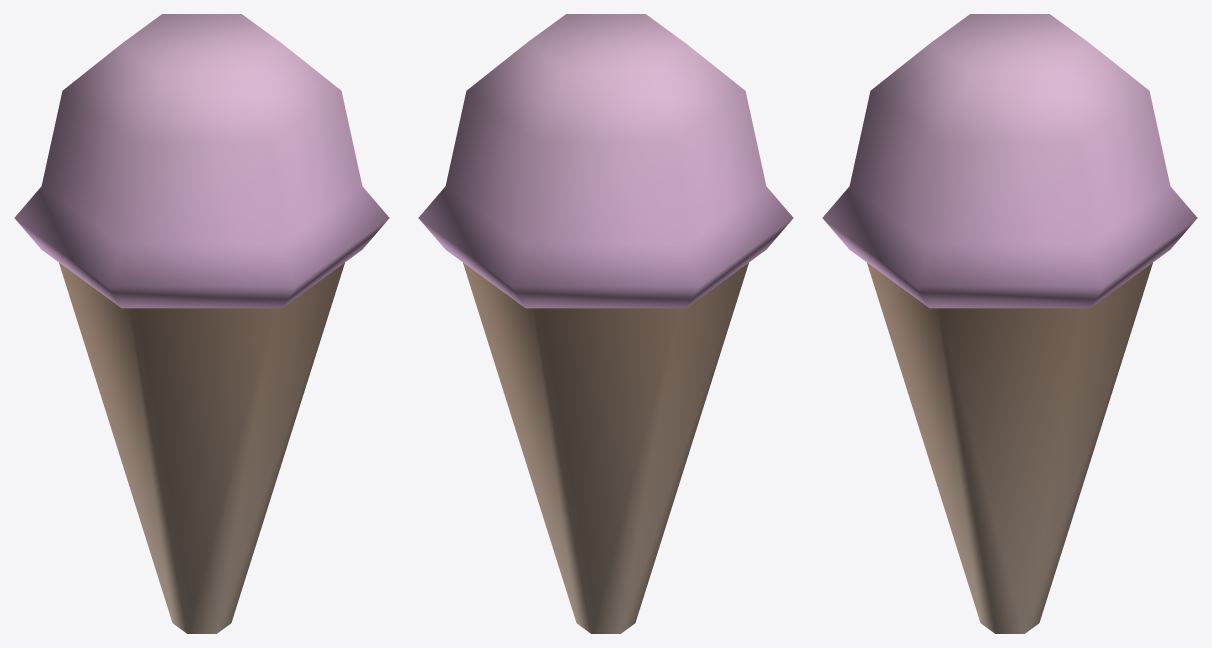
File: ice-cream.glb
The picture shows the model from 3 angles, left to right: view 1: azimuth 30°, elevation 25°; view 2: azimuth 150°, elevation 25°; view 3: azimuth 270°, elevation 25°; orthographic projection.
Visible parts, largest first — view 1: ice-cream; view 2: ice-cream; view 3: ice-cream.
Boxes of the visible parts, box(x1,y1,x2,y2) form: ice-cream: box(14, 14, 389, 633); ice-cream: box(418, 14, 793, 633); ice-cream: box(822, 14, 1197, 633).
Bounding box in the file's own units: 0.2352 × 0.4632 × 0.2716.
